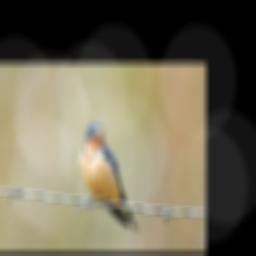Swallow: (77, 123, 140, 232)
